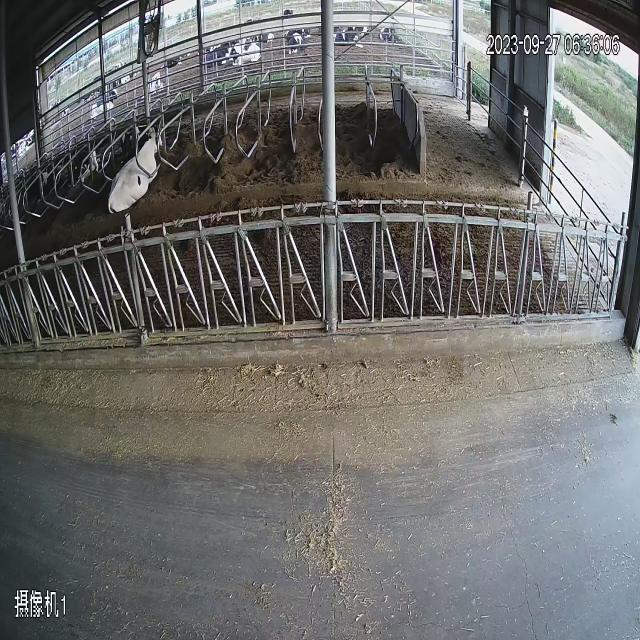lying down: (88, 94, 186, 240), (40, 12, 124, 122), (284, 14, 315, 64), (378, 19, 407, 56)
